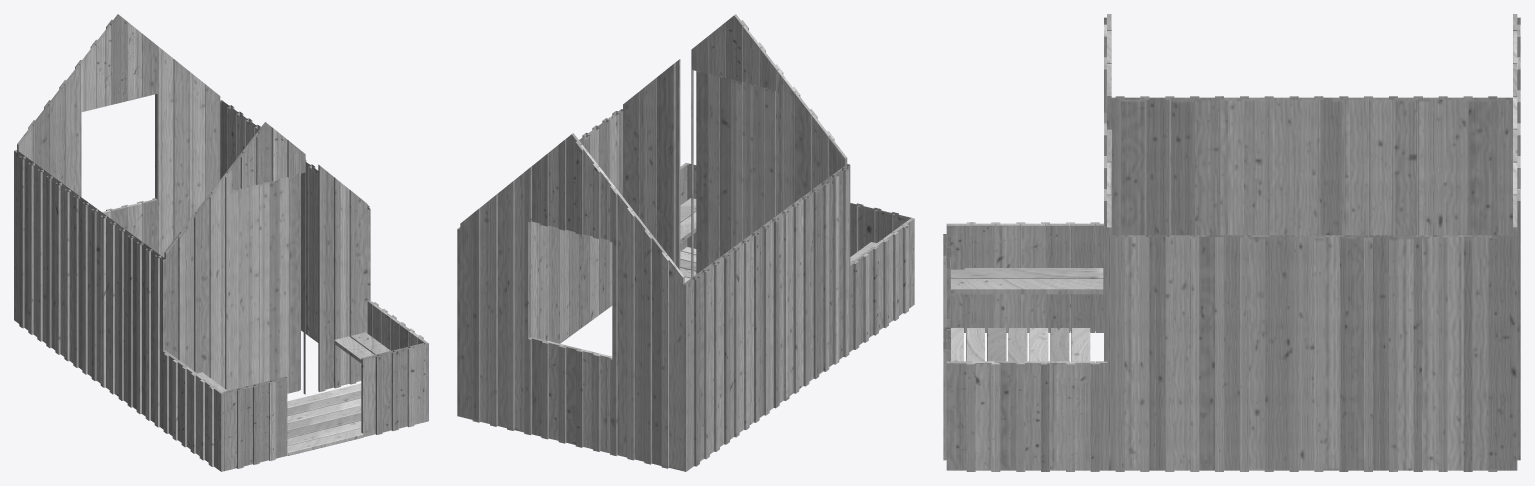
Rendered from Lekstuga.glb.
3 renders of one model, left to right at view 1: azimuth 30°, elevation 25°; view 2: azimuth 150°, elevation 25°; view 3: azimuth 270°, elevation 25°, orthographic. The views are drawn at different scales.
Parts seen in each view (by area): view 1: Lekstuga_nomtr2.045; view 2: Lekstuga_nomtr2.045; view 3: Lekstuga_nomtr2.045.
Boxes of the visible parts, x1,y1,x2,y2 form: Lekstuga_nomtr2.045: (14,14,428,471); Lekstuga_nomtr2.045: (457,14,914,471); Lekstuga_nomtr2.045: (943,14,1520,471).
Size of the model in its own units: 1.68 by 2.13 by 2.88.
Materials: 1 (1 with a texture image).
